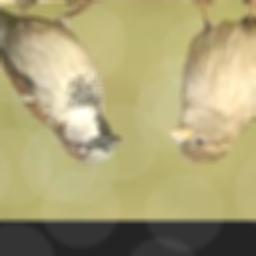Sparrow: (0, 0, 121, 164), (166, 0, 256, 163)
